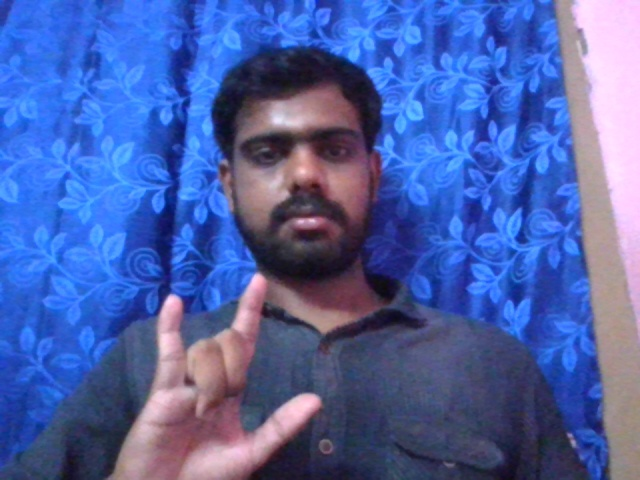IloveYou: (105, 261, 325, 480)
